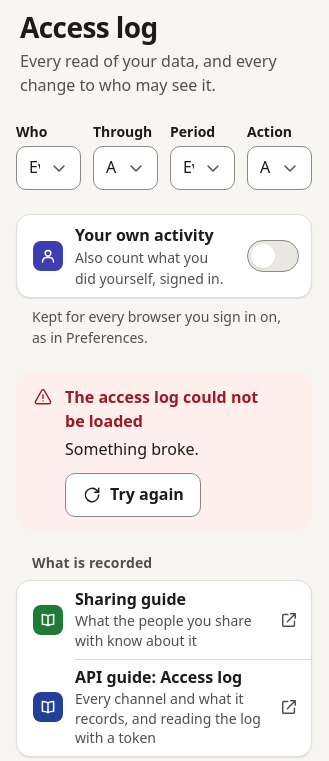
Settings › Access log › says why it failed, and tries again
expect the message shows "The access log could not be loaded": met, box [65,386,258,432]
Click the button "Try again". click: click(133, 495)
box: [65,473,201,517]
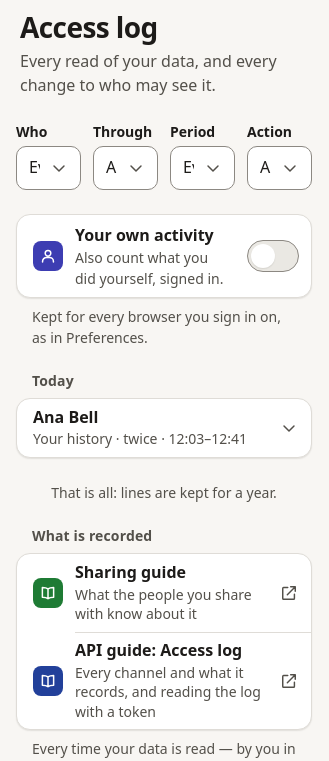
expect the list named "Today" is shown: met, box [16,398,312,458]
